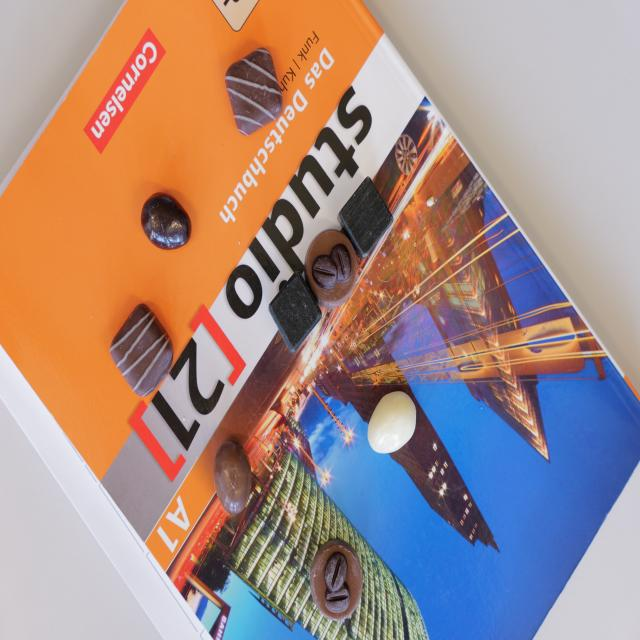Arabia: (304, 228, 359, 306), (311, 540, 363, 620)
Jelly_Black: (141, 192, 191, 251)
Jelly_Milk: (214, 440, 251, 516)
Jelly_White: (368, 391, 417, 454)
Stracciatella: (110, 304, 174, 398), (226, 46, 283, 136)
